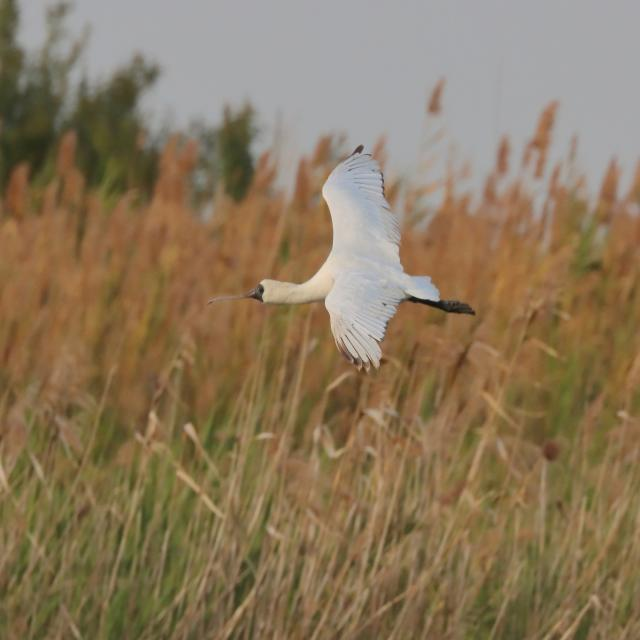Black-faced spoonbill: (210, 146, 474, 370)
